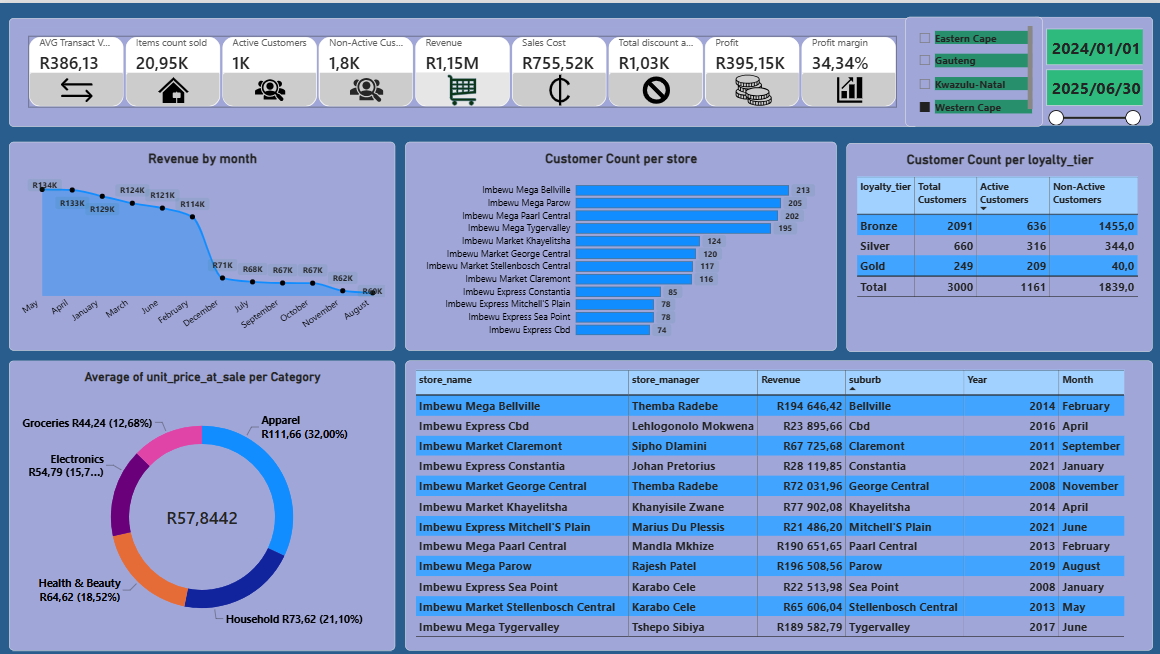

The dashboard page shown, as its layout file describes it:
{"tool":"powerbi","page":{"name":"Page 1","canvas":[1920,1080],"ordinal":0},"visuals":[{"type":"cardVisual","fields":{"Data":["_Measures.AVG Transaction Value","_Measures.Items count sold","_Measures.Customer Count","_Measures.Non-Active Customers","_Measures.Revenue","_Measures.Sales Cost","_Measures.Total discount applied","_Measures.Profit","_Measures.Profit margin"]},"box":[15.9,25,1496.4,179.1],"z":0},{"type":"slicer","fields":{"Values":["transactions.transaction_date Hierarchy.transaction_date"]},"box":[1700.2,22.6,199.7,179.1],"z":1},{"type":"donutChart","title":"Average of unit_price_at_sale per Category","fields":{"Category":["products.category"],"Y":["Avg(products.unit_price)"]},"box":[16.5,588.7,636,477.5],"z":2},{"type":"slicer","fields":{"Values":["stores.province"]},"box":[1492.3,22.6,226.4,181.1],"z":3},{"type":"tableEx","fields":{"Values":["stores.store_name","stores.store_manager","_Measures.Revenue","stores.suburb","stores.opened_date.Variation.Date Hierarchy.Year","stores.opened_date.Variation.Date Hierarchy.Month"]},"box":[669,588.7,1230.9,477.5],"z":4},{"type":"areaChart","title":"Revenue by month","fields":{"Category":["transactions.Month Name"],"Y":["_Measures.Revenue"]},"box":[16.5,228.5,636,343.7],"z":5},{"type":"barChart","title":"Customer Count per store","fields":{"Category":["stores.store_name"],"Y":["_Measures.Customer Count"]},"box":[669,228.5,710.1,343.7],"z":6},{"type":"tableEx","title":"Customer Count per loyalty_tier","fields":{"Values":["customers.loyalty_tier","_Measures.Total Customers","_Measures.Active Customer Count","_Measures.Non-Active Customers"]},"box":[1395.5,230.5,504.3,343.7],"z":7}]}

Visuals, with their boxes in screenshot pixels (x1, y1, x2, y2), scaled from the page's 1920x1080 canvas onto the 1160x654 screenshot:
cardVisual - _Measures.AVG Transaction Value x _Measures.Items count sold: {"left": 10, "top": 15, "right": 914, "bottom": 124}
slicer - transactions.transaction_date Hierarchy.transaction_date: {"left": 1027, "top": 14, "right": 1148, "bottom": 122}
"Average of unit_price_at_sale per Category" donutChart: {"left": 10, "top": 356, "right": 394, "bottom": 646}
slicer - stores.province: {"left": 902, "top": 14, "right": 1038, "bottom": 123}
tableEx - stores.store_name x stores.store_manager: {"left": 404, "top": 356, "right": 1148, "bottom": 646}
"Revenue by month" areaChart: {"left": 10, "top": 138, "right": 394, "bottom": 346}
"Customer Count per store" barChart: {"left": 404, "top": 138, "right": 833, "bottom": 346}
"Customer Count per loyalty_tier" tableEx: {"left": 843, "top": 140, "right": 1148, "bottom": 348}
